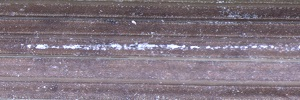RiceSheathBrownRot: (12, 75, 133, 85)
